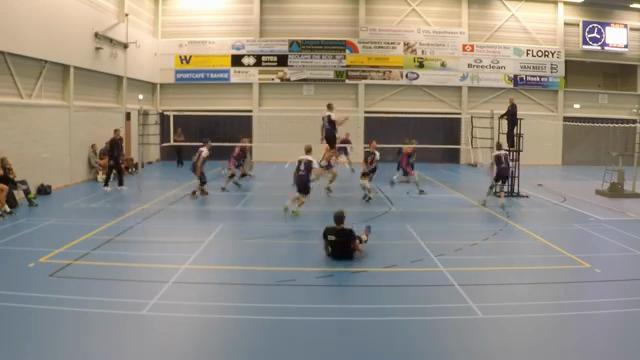attacco: (315, 97, 352, 175)
